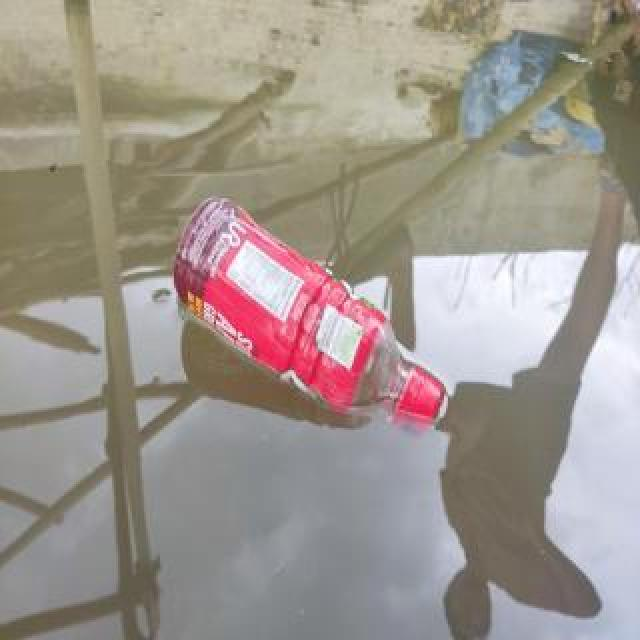bottle: (167, 187, 449, 443)
